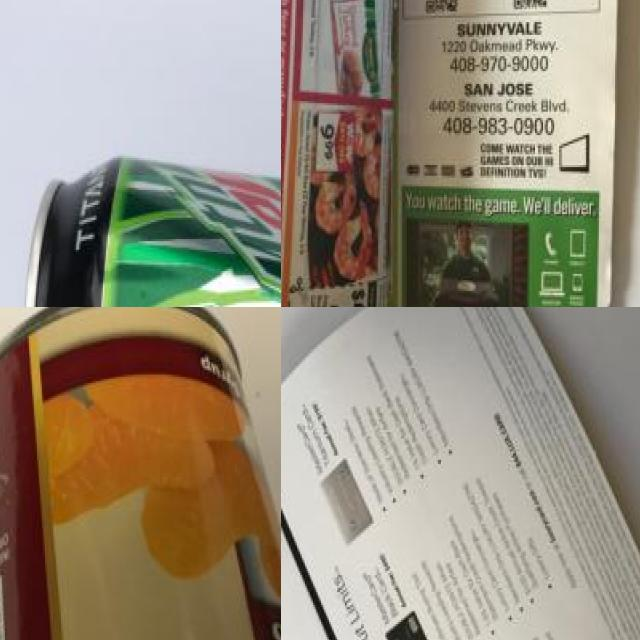paper: (281, 307, 640, 640), (281, 0, 633, 307)
plastic: (0, 307, 281, 640), (9, 155, 281, 307)
